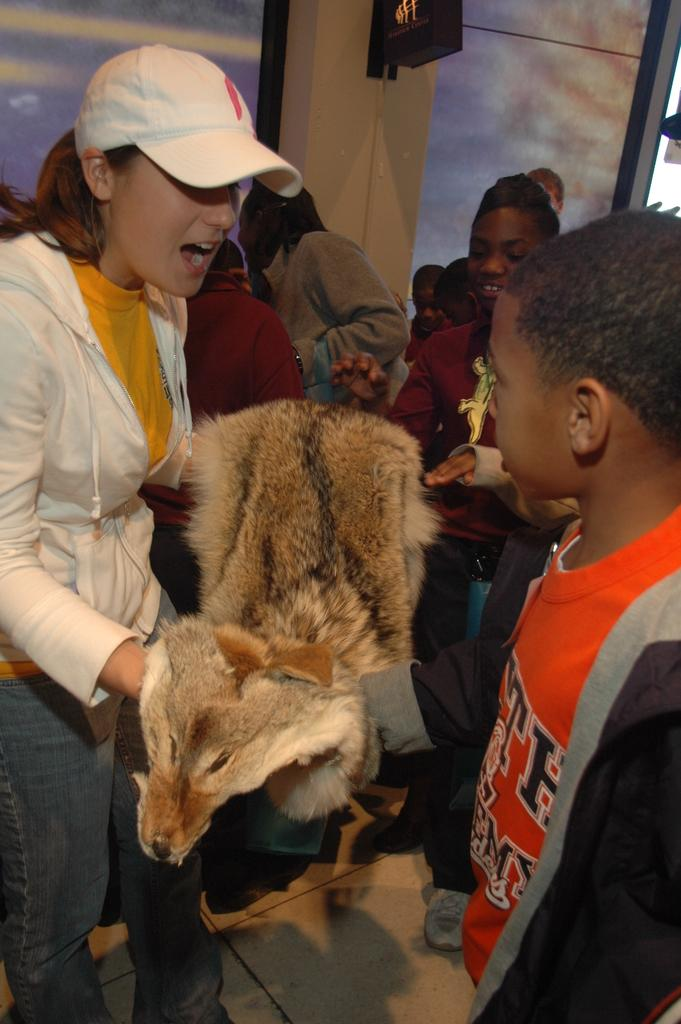Hat: (75, 41, 301, 198)
